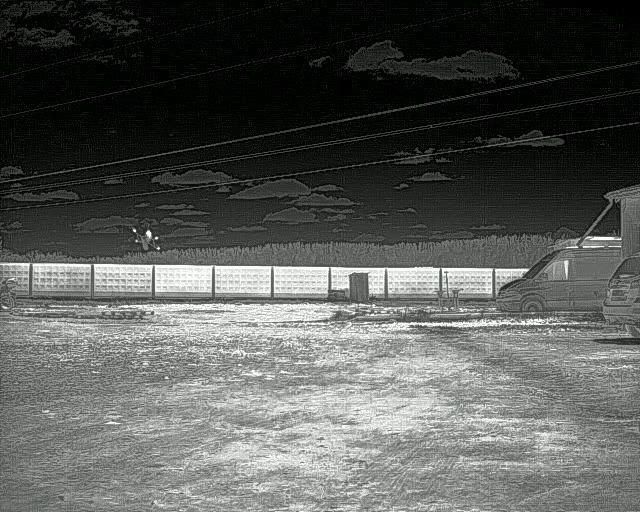drone-thermal: (130, 224, 164, 252)
